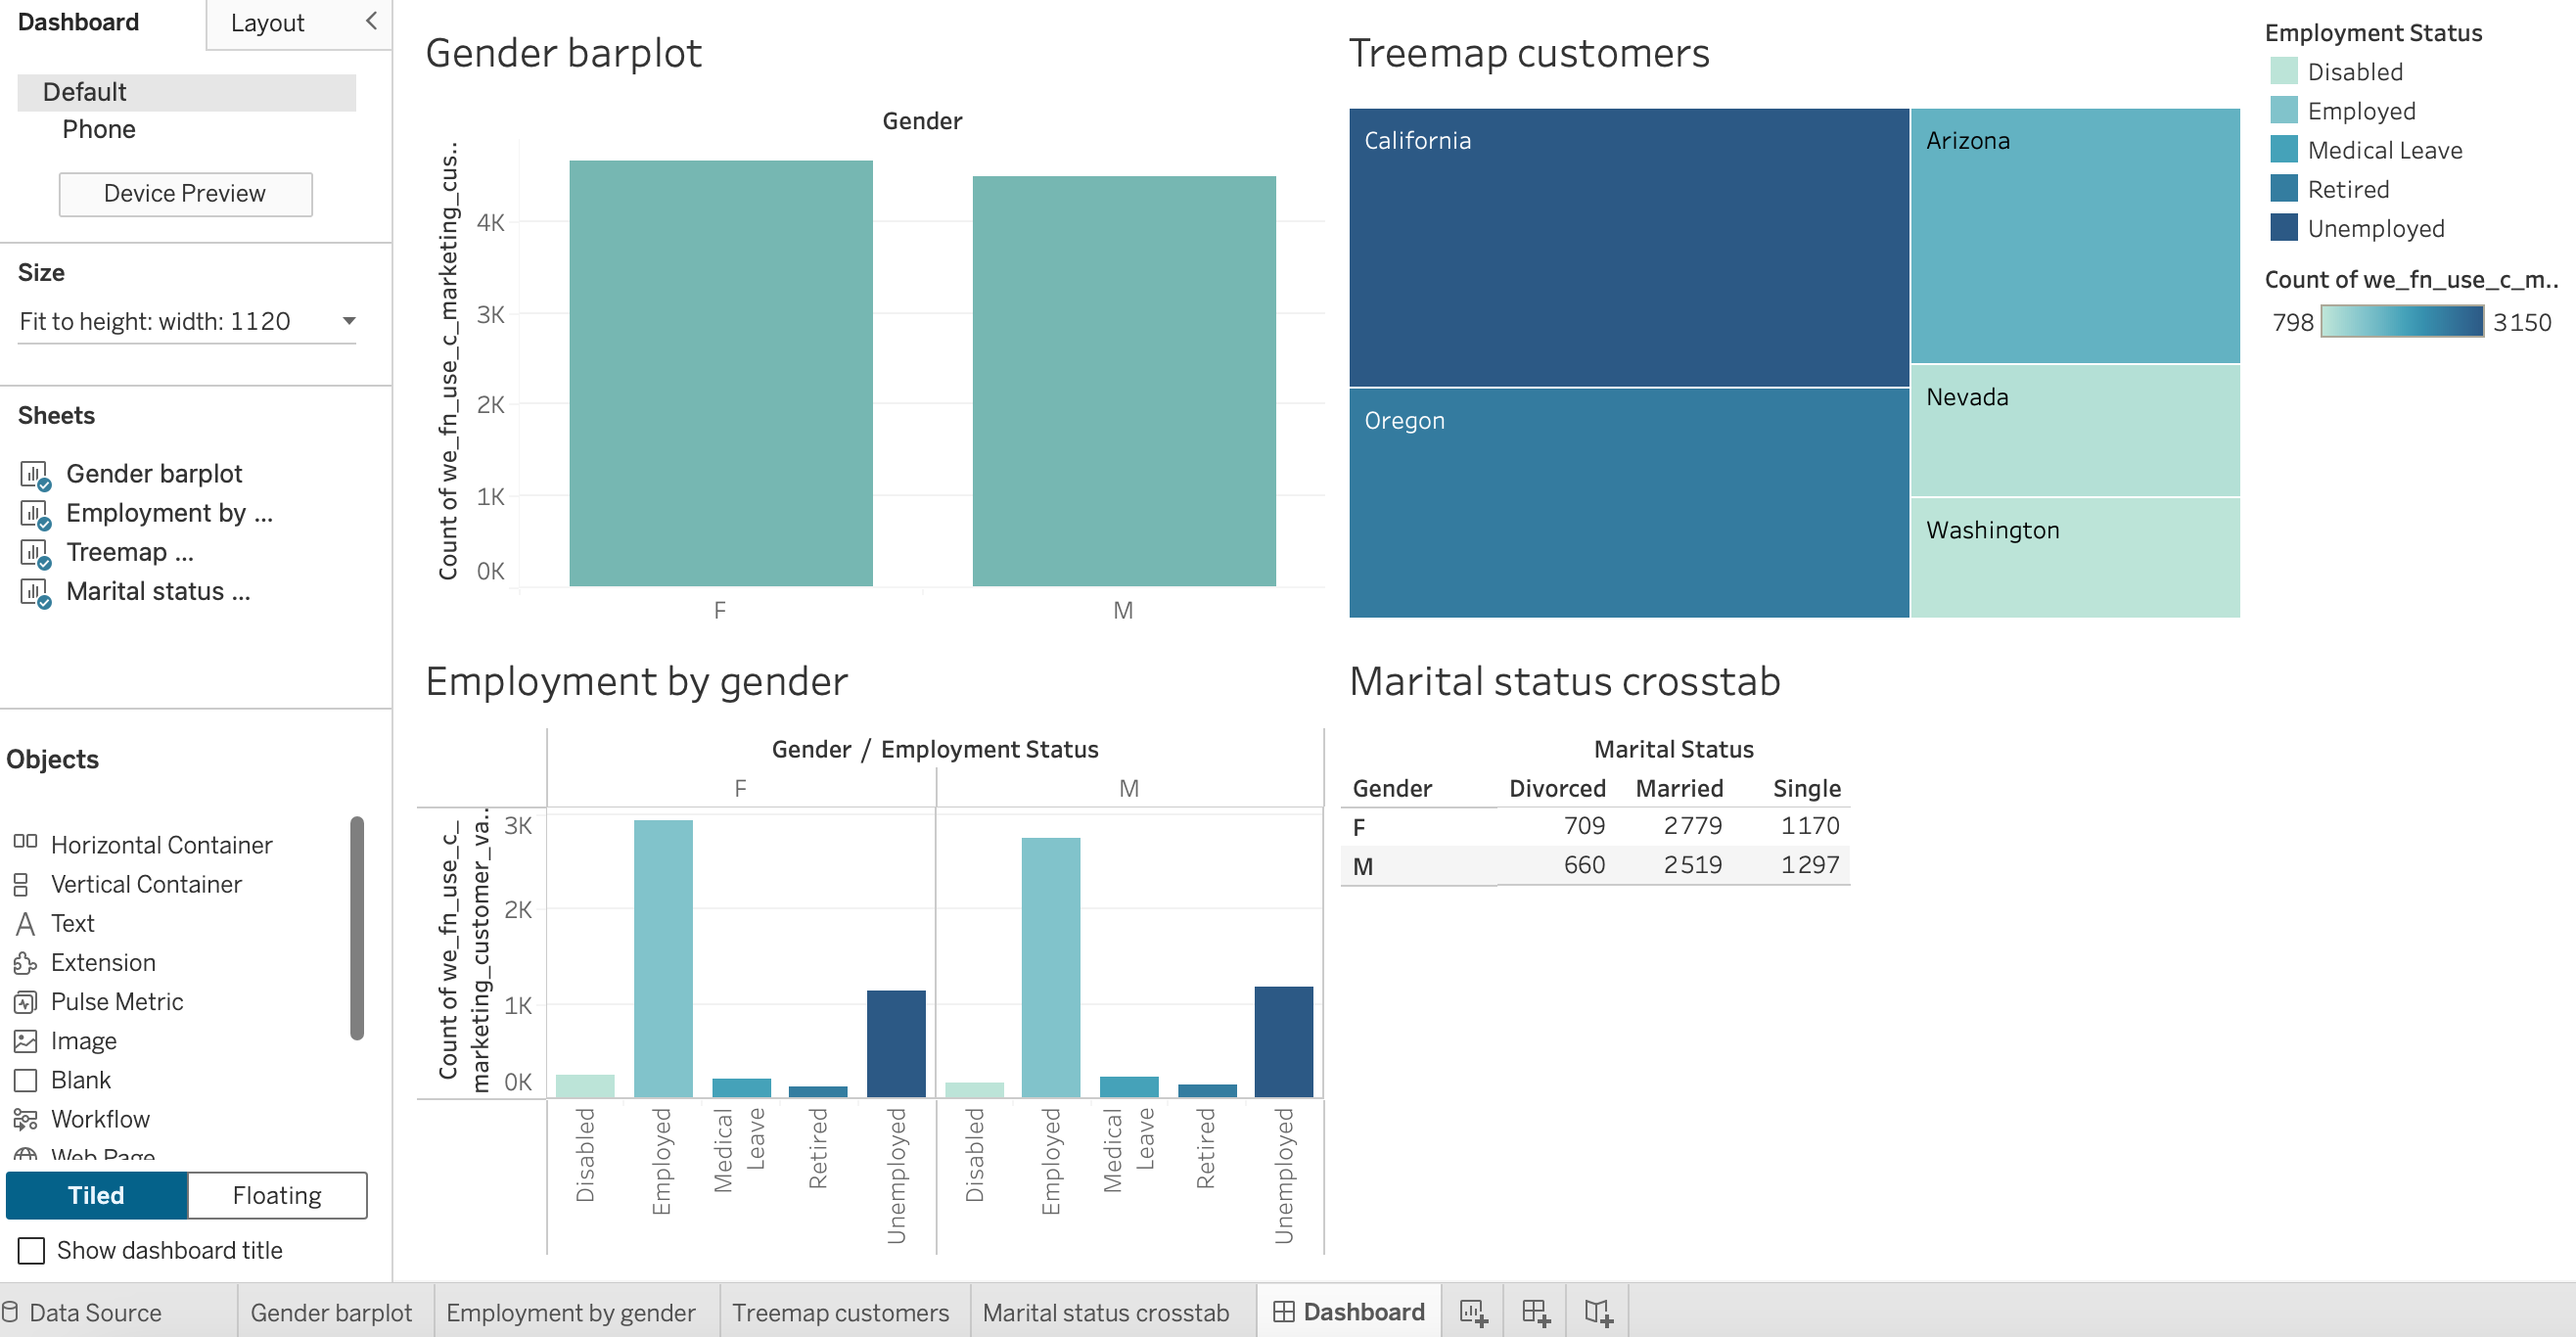

The dashboard page shown, as its layout file describes it:
{"tool":"tableau","page":{"name":"Dashboard","canvas":[1000,1000],"units":"permille","ordinal":0},"visuals":[{"type":"worksheet","title":"Gender barplot","mark":"Automatic","cols":["Gender"],"box":[7.1,12.2,421.4,487.8]},{"type":"worksheet","title":"Treemap customers","mark":"Automatic","box":[428.6,12.2,421.4,487.8]},{"type":"legend","title":"Employment by gender","param":"[federated.1w1md7k09y78zb1btzl530bxzp50].[none:EmploymentStatus:nk]","box":[850,12.2,142.9,191.5]},{"type":"legend","title":"Treemap customers","param":"[federated.1w1md7k09y78zb1btzl530bxzp50].[__tableau_internal_object_id__].[cnt:w","box":[850,203.7,142.9,98.8]},{"type":"worksheet","title":"Employment by gender","mark":"Automatic","cols":["Gender","EmploymentStatus"],"box":[7.1,500,421.4,487.8]},{"type":"worksheet","title":"Marital status crosstab","mark":"Automatic","rows":["Gender"],"cols":["Marital Status"],"box":[428.6,500,421.4,487.8]}]}

Visuals, with their boxes on the dashboard's canvas, which has no fixed pixel size, in thousandths of its width and height (x1, y1, x2, y2). These are canvas units, not pixel positions in the 2576x1337 screenshot, which may show the page scaled, cropped or inside an application window:
"Gender barplot" worksheet: <box>7,12,428,500</box>
"Treemap customers" worksheet: <box>429,12,850,500</box>
"Employment by gender" legend: <box>850,12,993,204</box>
"Treemap customers" legend: <box>850,204,993,302</box>
"Employment by gender" worksheet: <box>7,500,428,988</box>
"Marital status crosstab" worksheet: <box>429,500,850,988</box>
